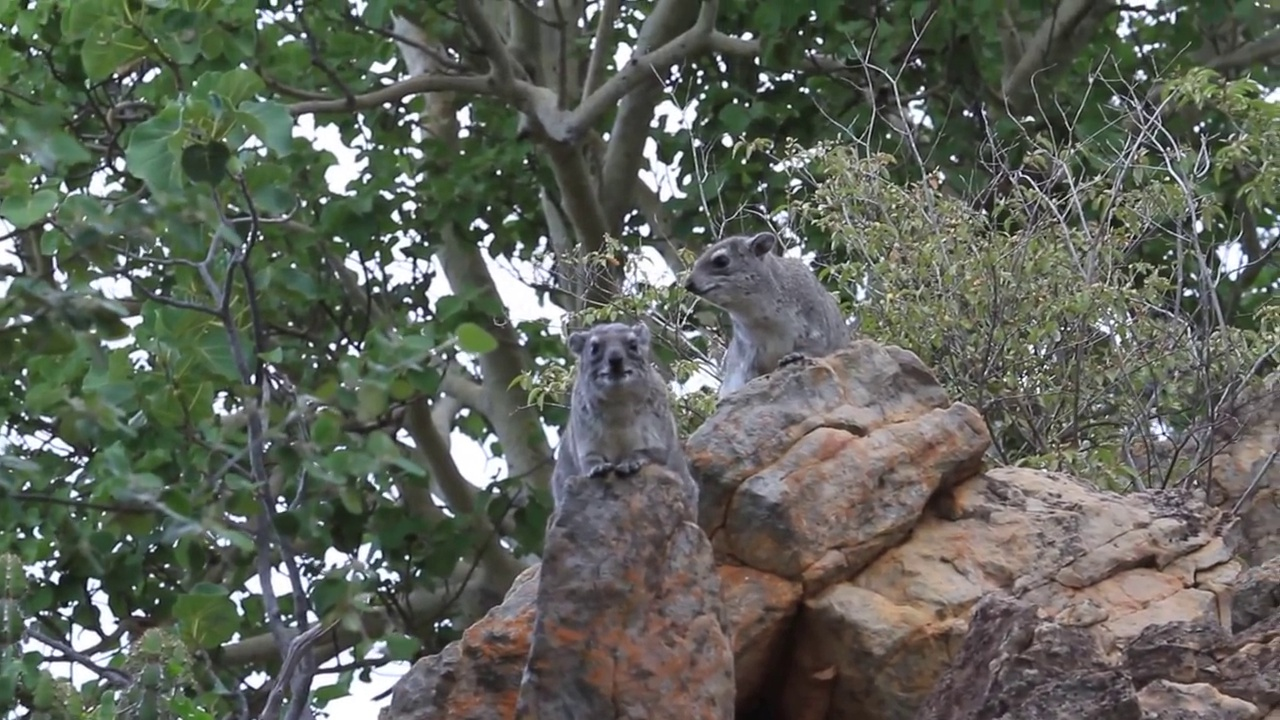Rock Hyrex: (541, 319, 699, 528), (681, 228, 847, 402)
